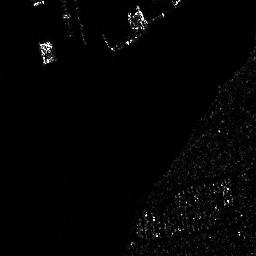ship: (37, 40, 57, 65)
